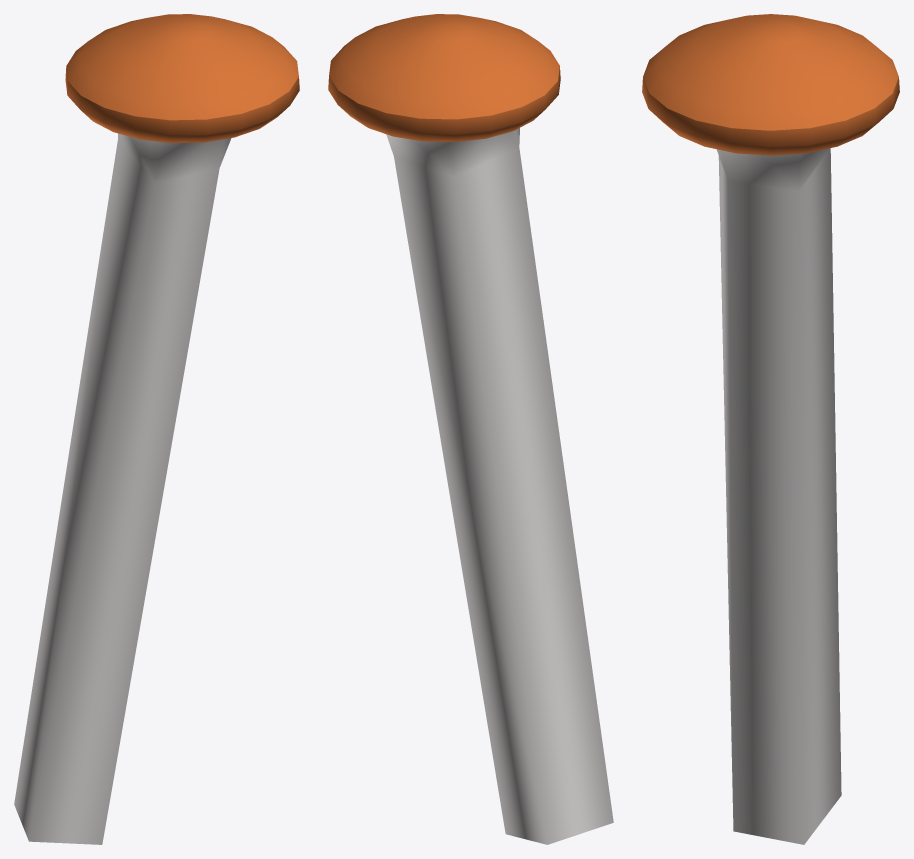
The model's file is NumbStick_Animated.fbx.
The picture shows the model from 3 angles, left to right: view 1: azimuth 30°, elevation 25°; view 2: azimuth 150°, elevation 25°; view 3: azimuth 270°, elevation 25°; orthographic projection. The views are drawn at different scales.
Parts seen in each view (by area): view 1: pCylinder1; view 2: pCylinder1; view 3: pCylinder1.
Boxes of the visible parts, left/top/right/bottom form: pCylinder1: left=14, top=14, right=299, bottom=844; pCylinder1: left=328, top=14, right=613, bottom=844; pCylinder1: left=642, top=14, right=899, bottom=844.
Size of the model in its own units: 5.47 by 15.46 by 4.23.
